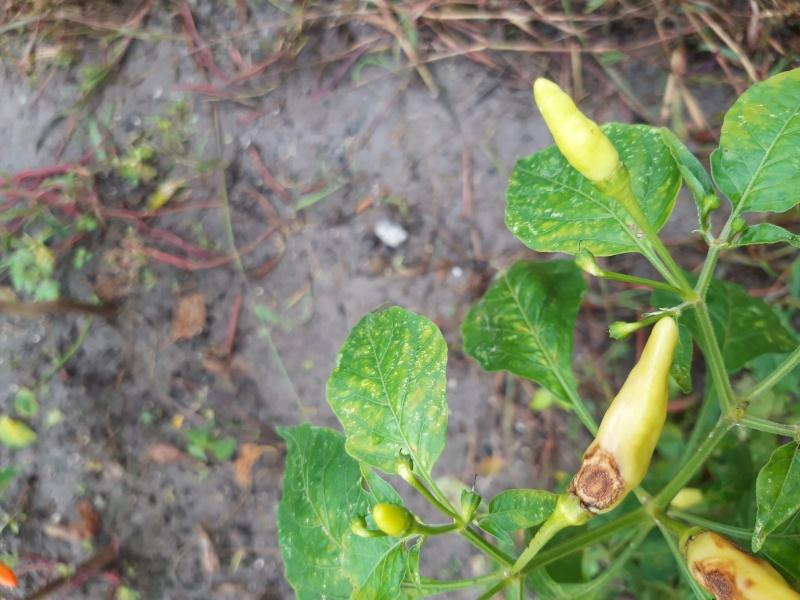antraknosa: (573, 317, 684, 515), (682, 526, 799, 600)
cabai_normal: (530, 78, 622, 189)
